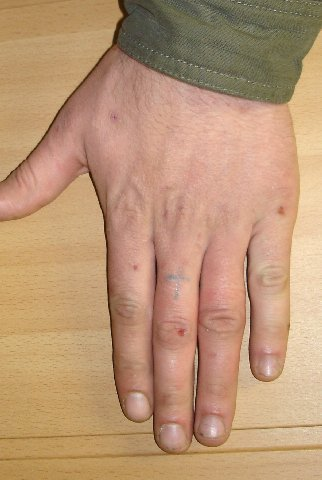tatu9_krest: (163, 267, 189, 299)
